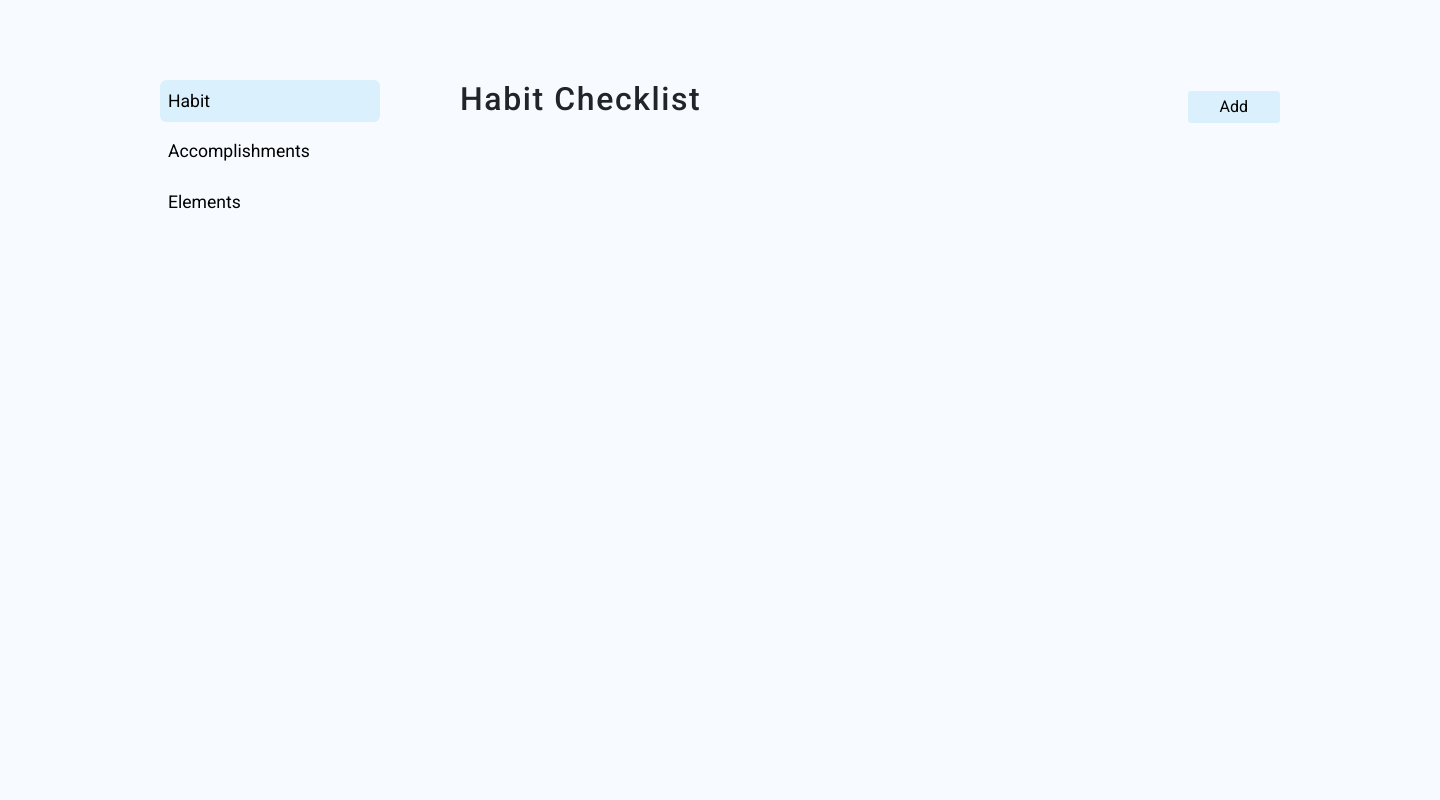
Test case: habit dashboard › should display modal when add btn is clicked
The image size is (1440, 800).
What coordinates should you click on to do the following:
click the button with id "habit-add-btn"
I would click on:
 (1235, 107)
Its box is [1188,91,1281,123].
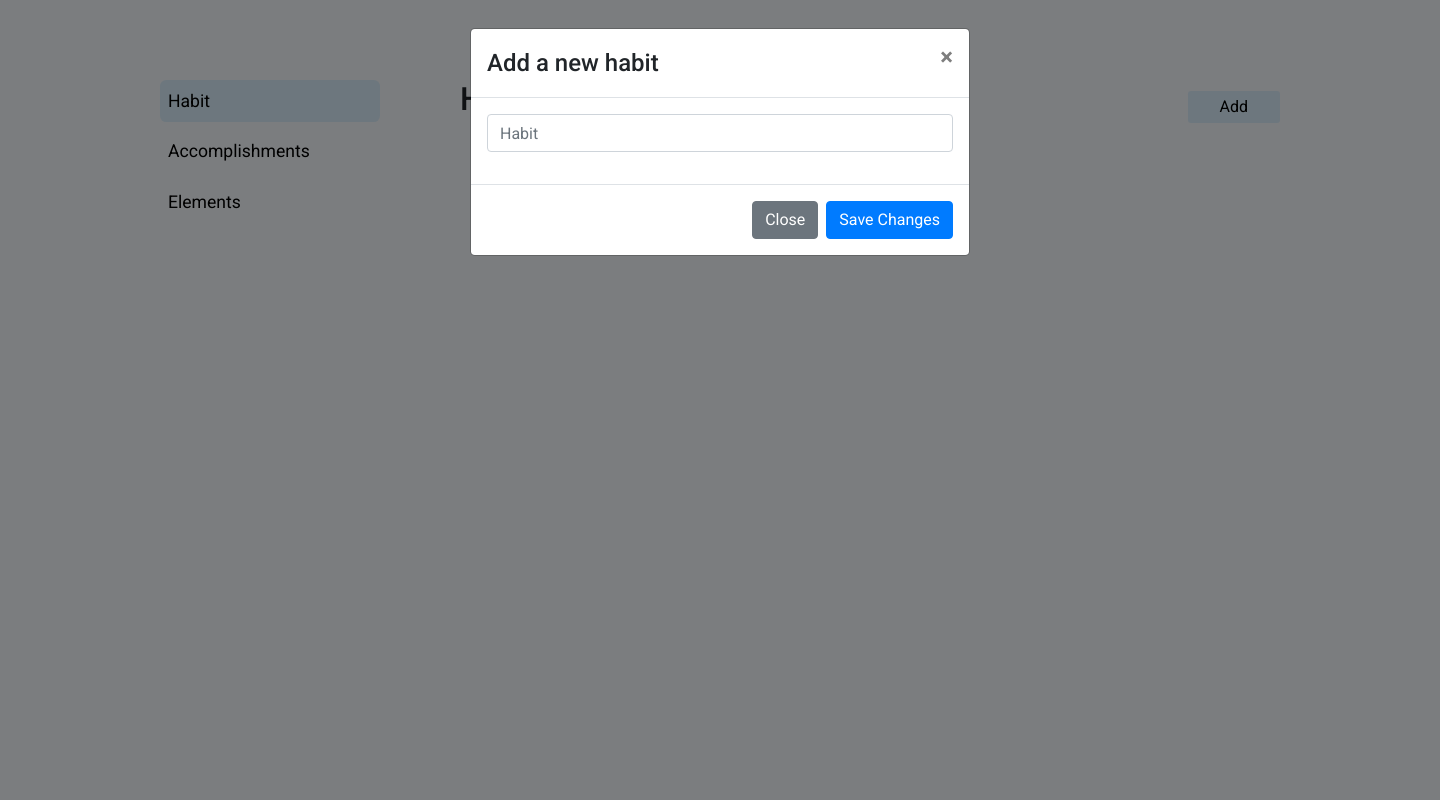
Expected: the element with class "modal-dialog" is shown, [470,28,970,256]
